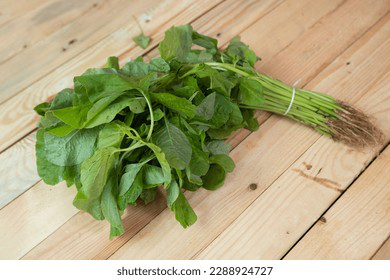Bayam: (12, 17, 383, 235)
